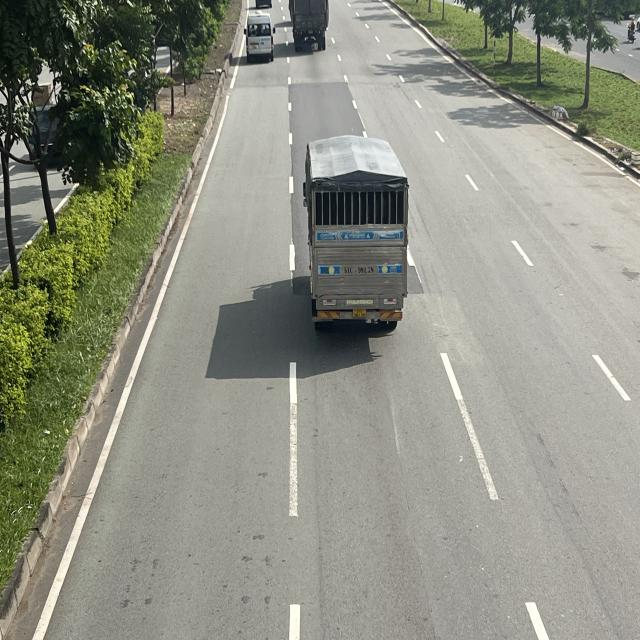truck: (309, 138, 415, 329), (288, 0, 328, 51)
van: (244, 10, 275, 62)
